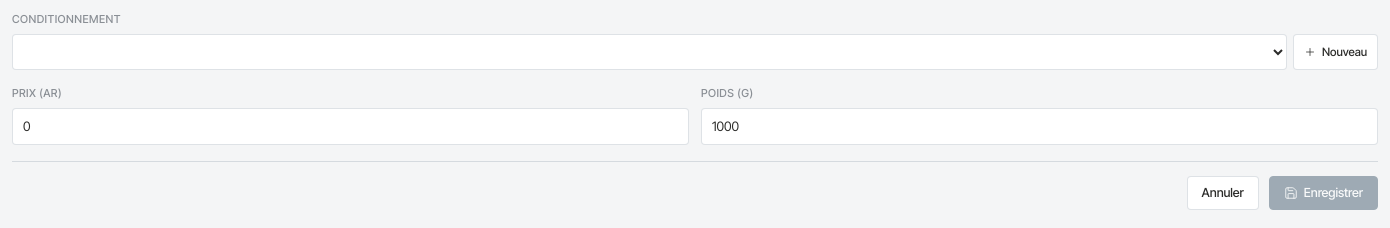
Scenario: ErpProductPriceForm — création inline de conditionnement › révèle un champ de saisie au clic sur « + Nouveau »
What coordinates should you click on to do the following:
click the button "Nouveau"
I would click on:
 (1336, 52)
Its box is left=1293, top=34, right=1378, bottom=70.
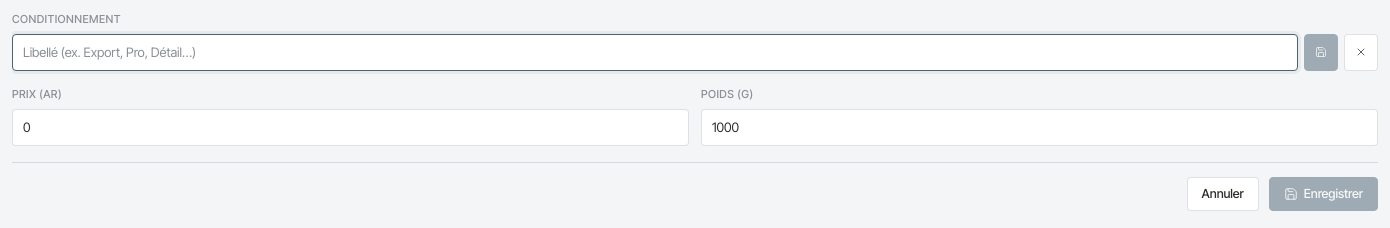
Check: the field named "new-packaging-label" is shown, box left=12, top=34, right=1298, bottom=71
